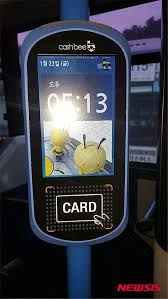terminal: (14, 20, 137, 250)
